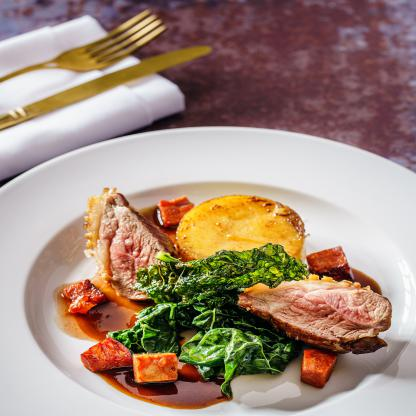Carne: (235, 276, 394, 353), (85, 193, 179, 267)
